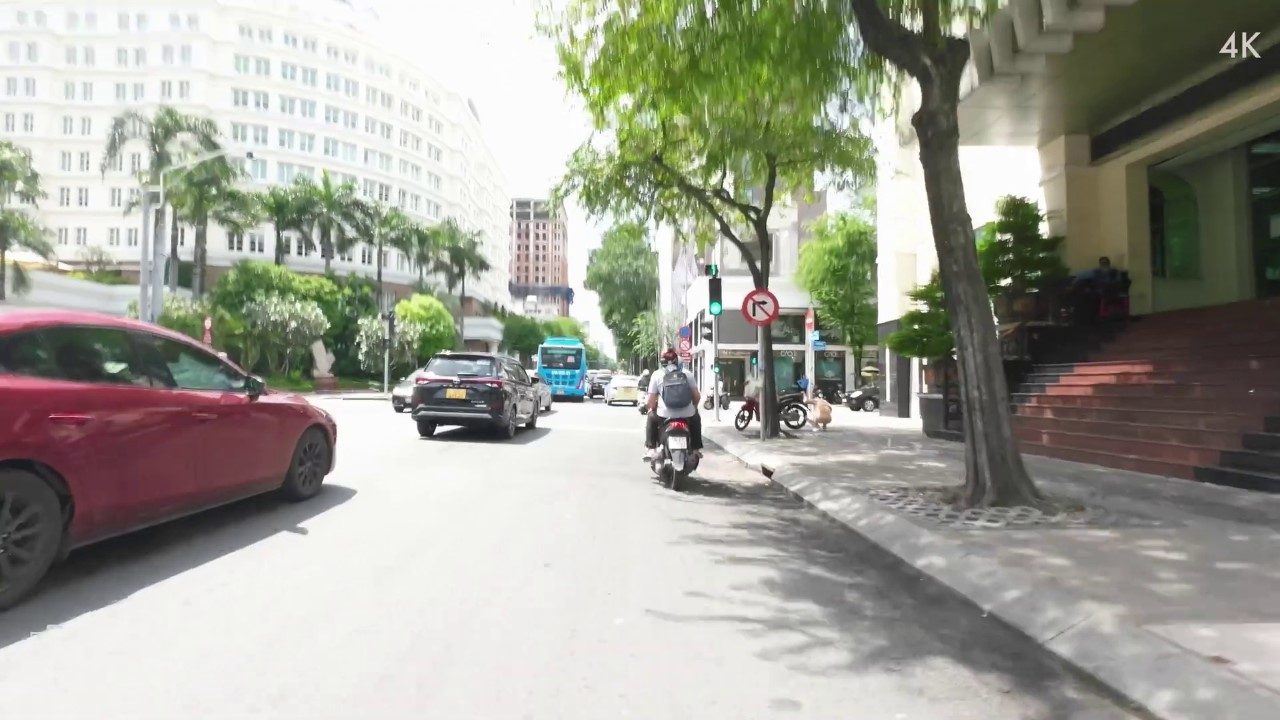cam_re_phai: (740, 288, 780, 327)
